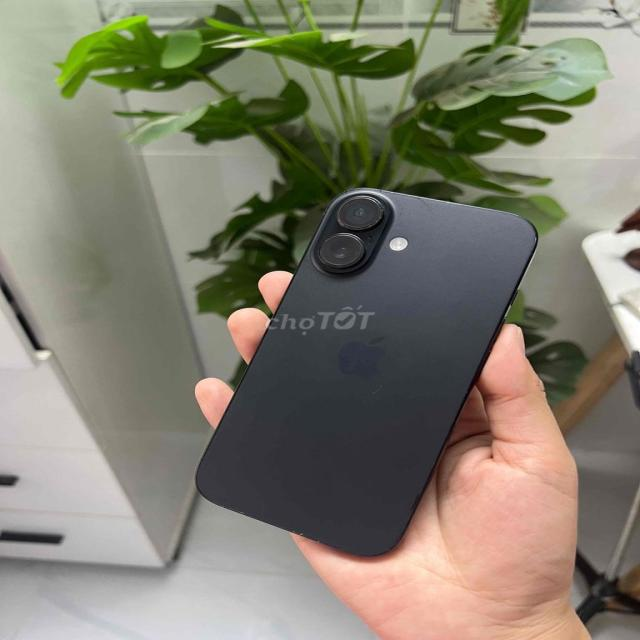gen_16: (197, 188, 537, 555)
scratch: (373, 176, 442, 238)
